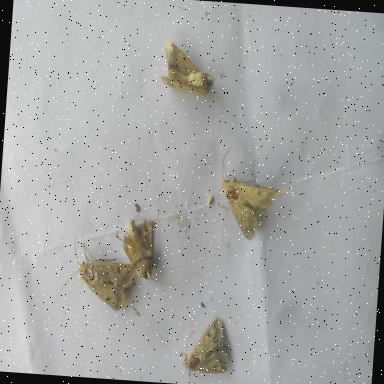abw: (53, 224, 142, 316), (212, 142, 288, 246), (114, 214, 180, 304), (175, 308, 237, 384), (156, 36, 220, 100)
